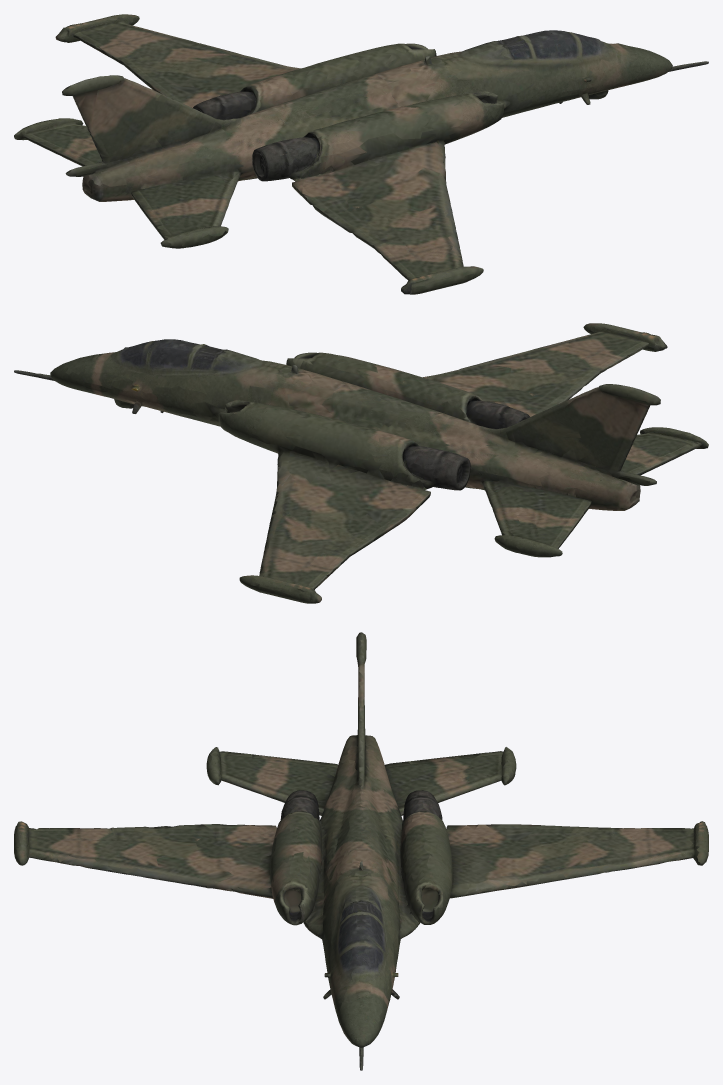
File: fh_plane_grach1_meshy.glb
3 views of the same model, one above another, from view 1: azimuth 30°, elevation 25°; view 2: azimuth 150°, elevation 25°; view 3: azimuth 270°, elevation 25° (orthographic).
Visible parts, largest first — view 1: GLTF; view 2: GLTF; view 3: GLTF.
Part boxes in pixels (bbox=[...]): GLTF: bbox=[14, 14, 708, 294]; GLTF: bbox=[14, 323, 708, 603]; GLTF: bbox=[14, 632, 708, 1070].
Bounding box in the file's own units: 1 × 0.2121 × 0.9448.
1 material, 1 textured.
